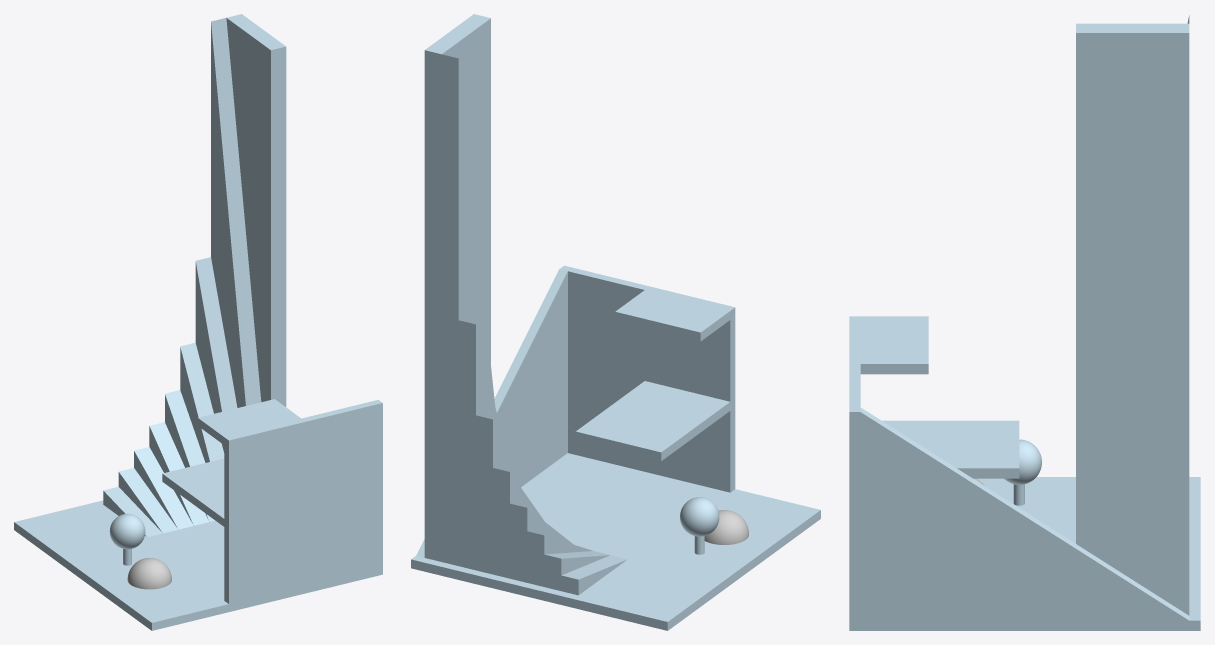
File: map_3.gltf
3 renders of one model, left to right at view 1: azimuth 30°, elevation 25°; view 2: azimuth 150°, elevation 25°; view 3: azimuth 270°, elevation 25°, orthographic. The views are drawn at different scales.
Parts seen in each view (by area): view 1: Part 1; view 2: Part 1; view 3: Part 1.
Part boxes in pixels (x1,y1,x2,y2): Part 1: (14,14,382,630); Part 1: (411,14,820,630); Part 1: (849,15,1200,630).
Size of the model in its own units: 3.81 by 7.33 by 3.94.
